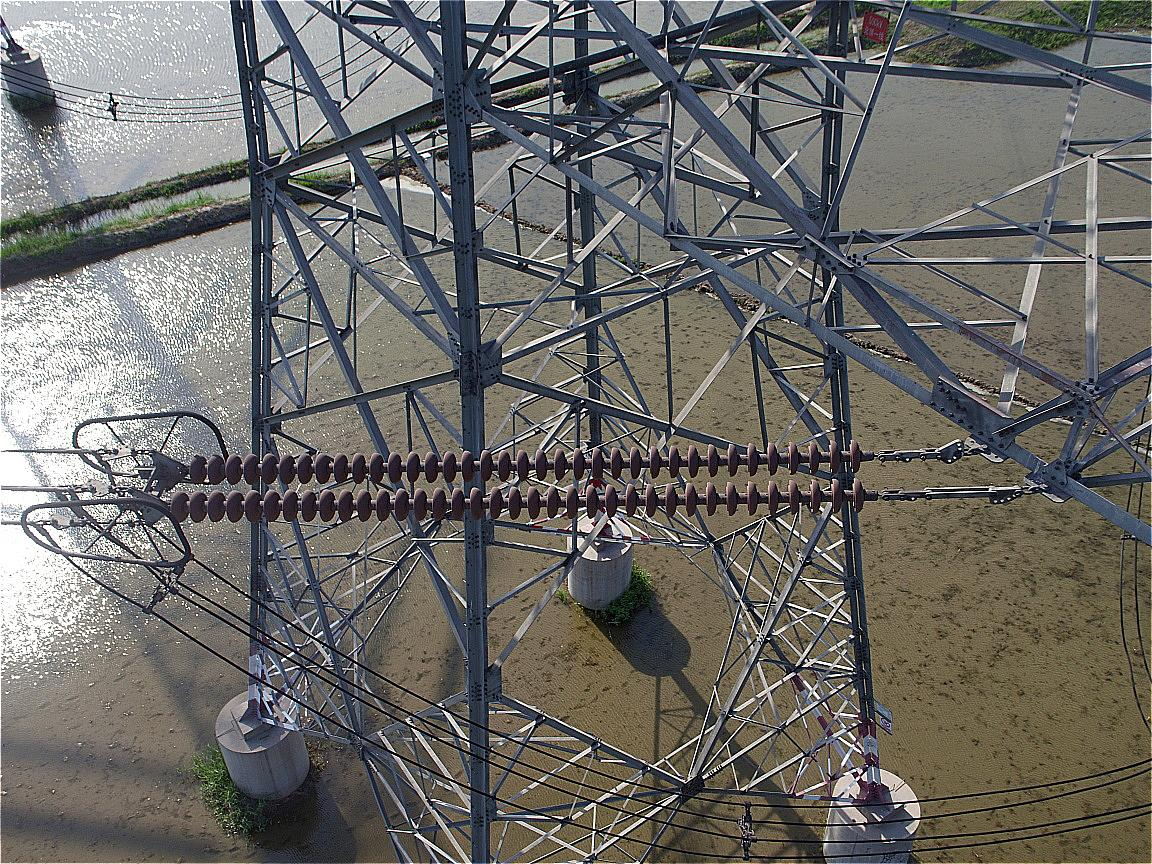insultor1: (172, 439, 882, 517)
